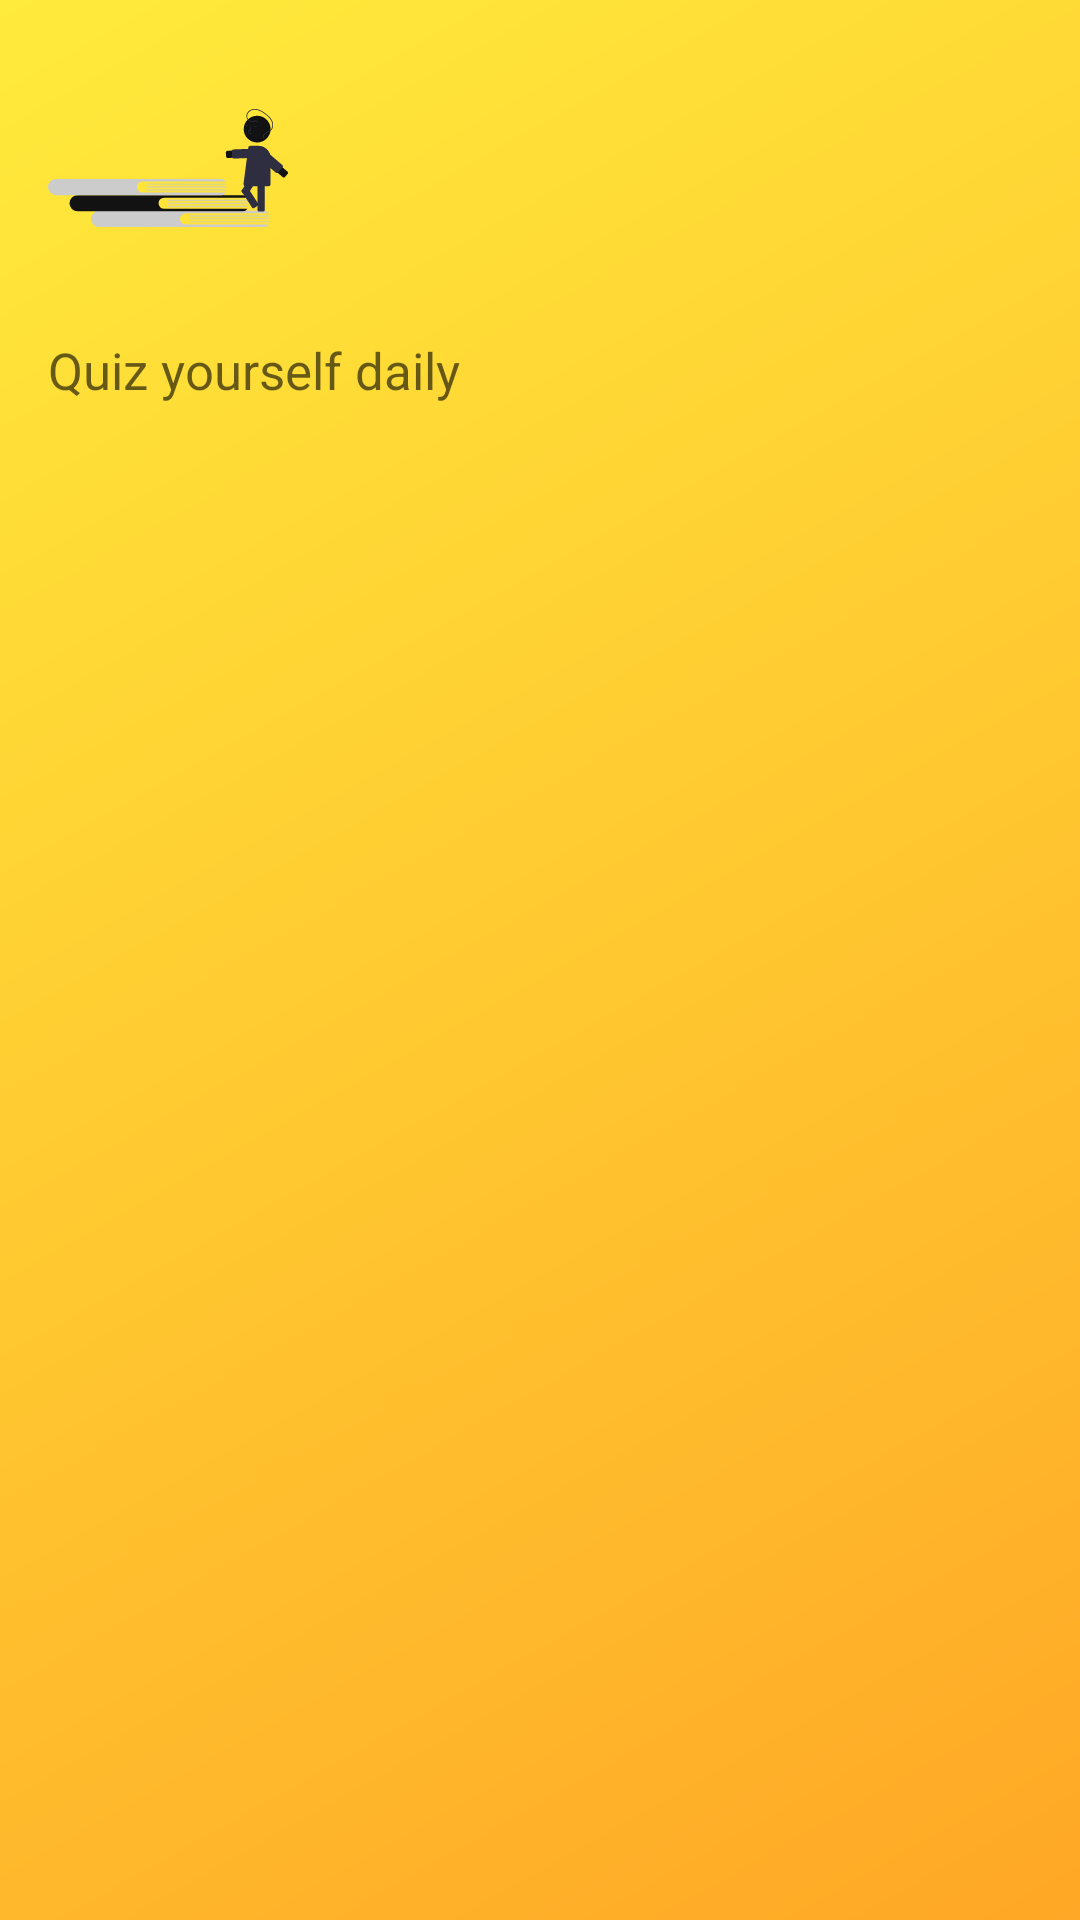

Icon bounding boxes for this 1080px×1920px phone screenshot, format (x1, y1, x2, y2):
undraw road to knowledge: (48, 109, 288, 227)
